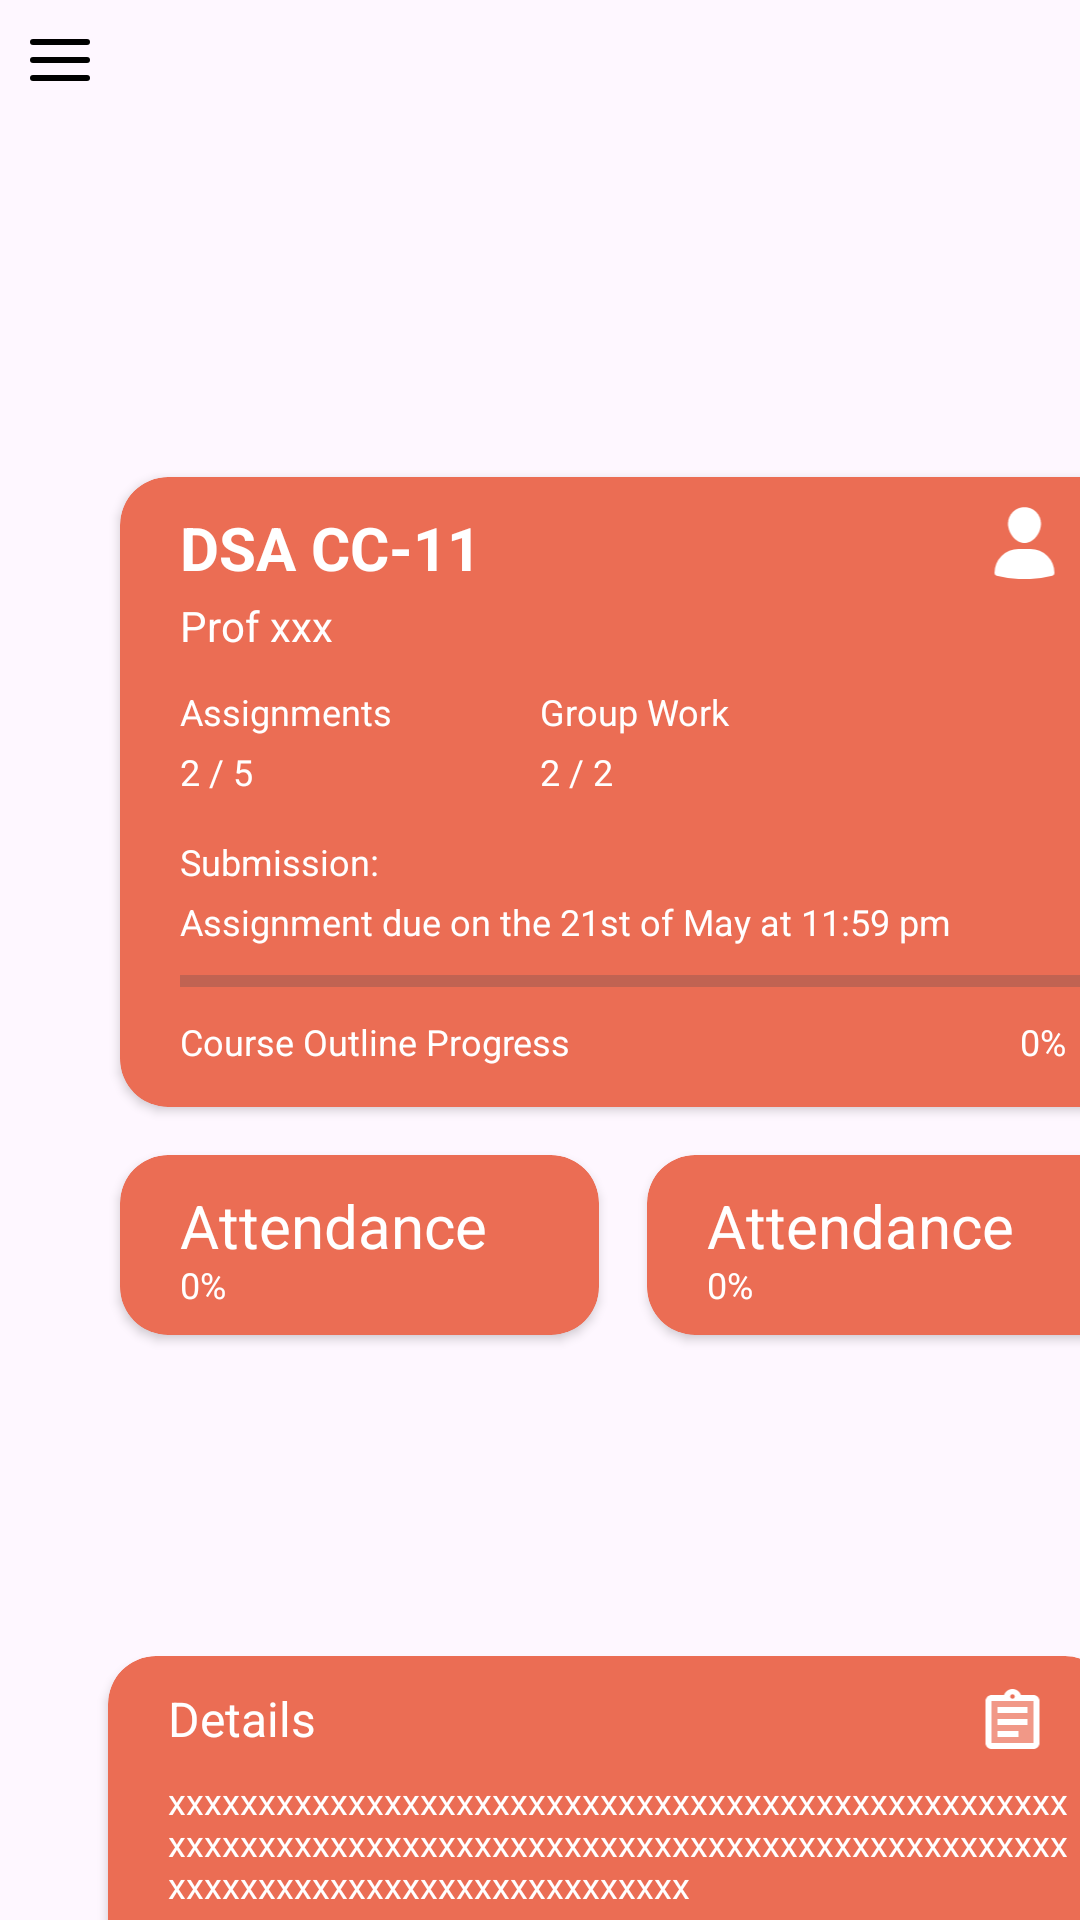

Point at icon controls on the screen. Image size 1080 × 1920, points as point (x, y).
Menu button: point (60, 60)
